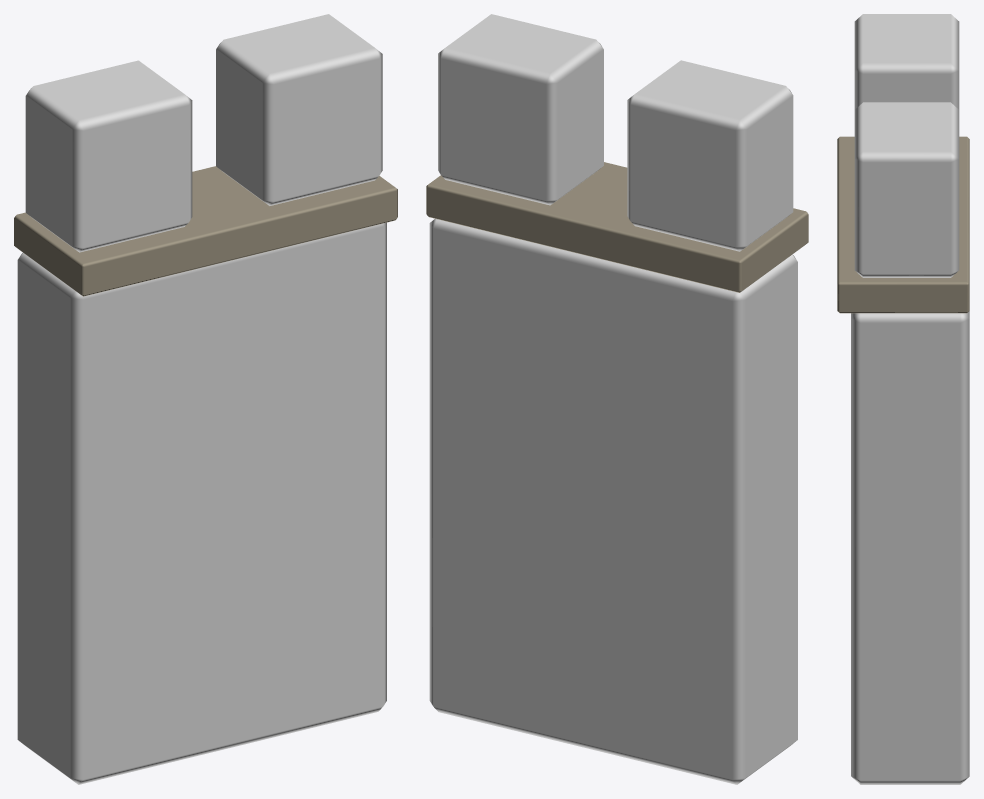
Rendered from stone-halls-wall-boundary.af039b2e.glb.
The picture shows the model from 3 angles, left to right: view 1: azimuth 30°, elevation 25°; view 2: azimuth 150°, elevation 25°; view 3: azimuth 270°, elevation 25°; orthographic projection. The views are drawn at different scales.
Visible parts, largest first — view 1: body; view 2: body; view 3: body.
Boxes of the visible parts, x1,y1,x2,y2 form: body: (14, 14, 397, 784); body: (426, 14, 808, 784); body: (837, 14, 969, 784).
Bounding box in the file's own units: 1 × 2 × 0.38.
